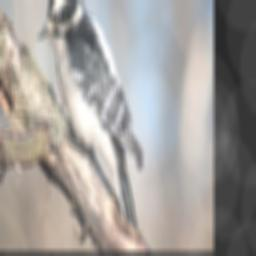Woodpecker: (33, 0, 144, 236)
